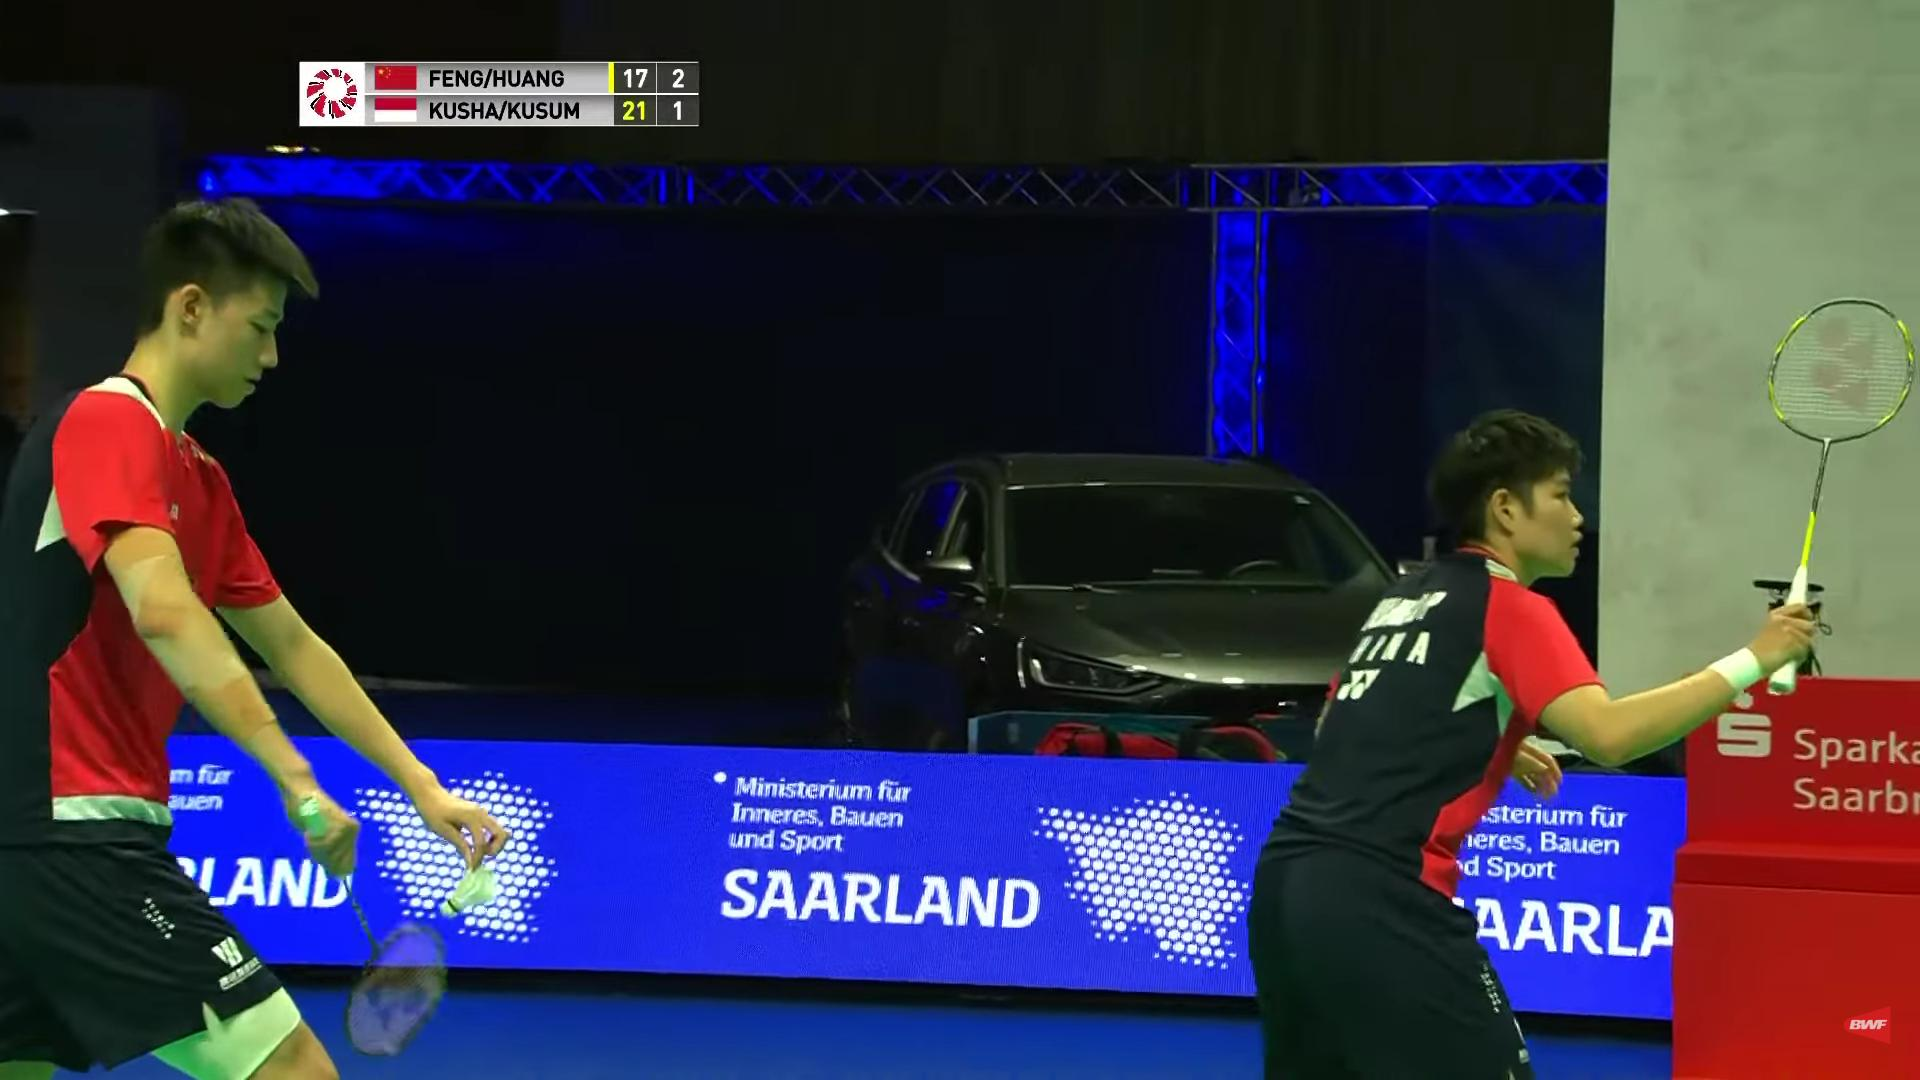racket: (1735, 277, 1920, 473), (306, 902, 483, 1072)
shuttle: (434, 864, 521, 931)
